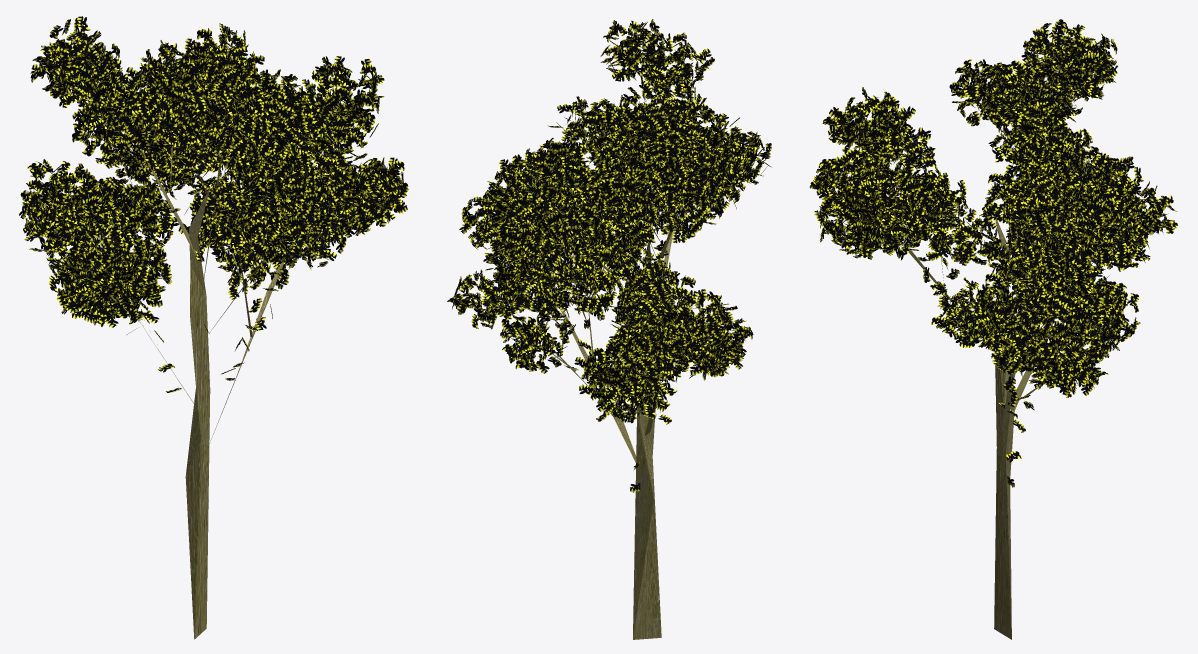
File: cottonwood_river_v03_LOD1.fbx
3 renders of one model, left to right at view 1: azimuth 30°, elevation 25°; view 2: azimuth 150°, elevation 25°; view 3: azimuth 270°, elevation 25°, orthographic. The views are drawn at different scales.
Visible parts, largest first — view 1: cottonwood_river_v03_LOD1; view 2: cottonwood_river_v03_LOD1; view 3: cottonwood_river_v03_LOD1.
Boxes of the visible parts, x1=… form: cottonwood_river_v03_LOD1: x1=19, y1=16, x2=408, y2=639; cottonwood_river_v03_LOD1: x1=447, y1=19, x2=771, y2=639; cottonwood_river_v03_LOD1: x1=809, y1=19, x2=1177, y2=639.
Size of the model in its own units: 2143 by 2233 by 3744.
2 materials, 2 textured.
